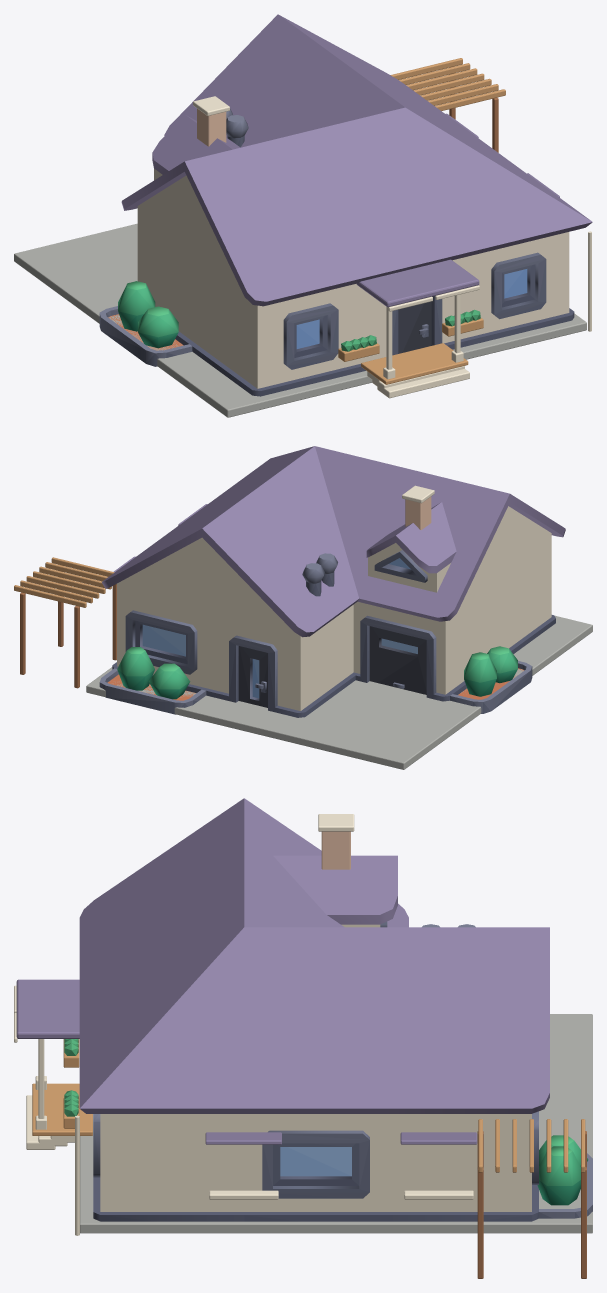
The model's file is house_lavender.glb.
The picture shows the model from 3 angles, top to bottom: view 1: azimuth 30°, elevation 25°; view 2: azimuth 150°, elevation 25°; view 3: azimuth 270°, elevation 25°; orthographic projection. The views are drawn at different scales.
Parts seen in each view (by area): view 1: house_lavender_Mesh; view 2: house_lavender_Mesh; view 3: house_lavender_Mesh.
Boxes of the visible parts, <box> form: house_lavender_Mesh: <box>14,14,592,417</box>; house_lavender_Mesh: <box>14,446,592,769</box>; house_lavender_Mesh: <box>14,798,592,1278</box>.
Bounding box in the file's own units: 13.87 × 6.29 × 12.88.
